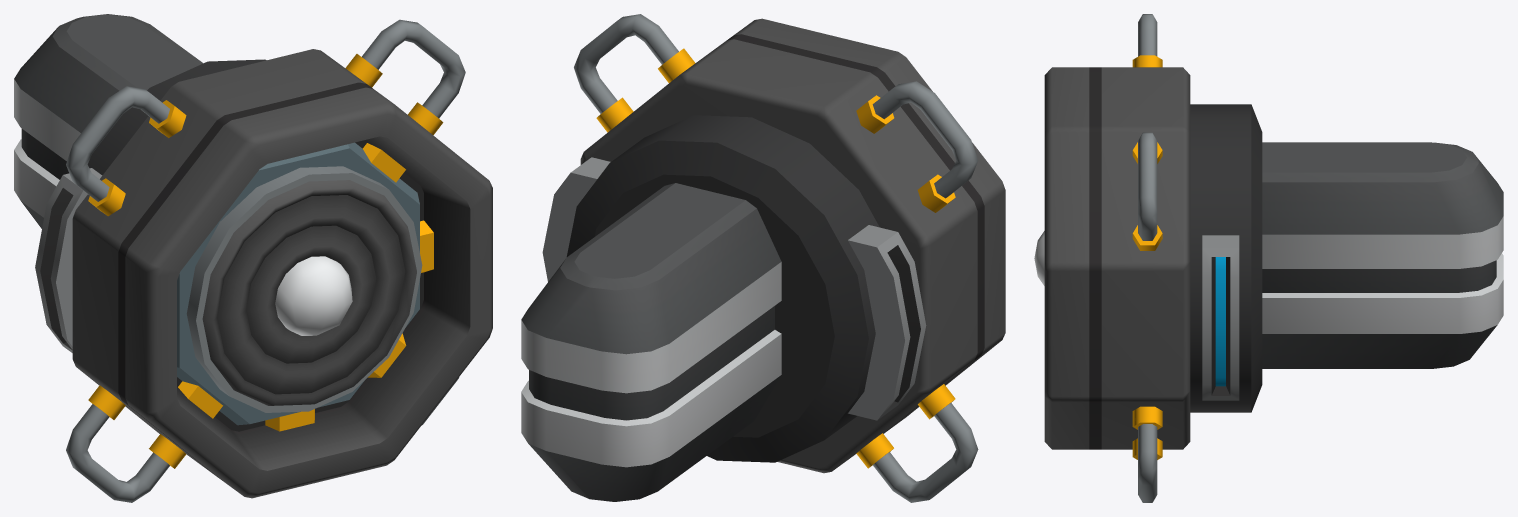
Rendered from Turret_008_Gun_01.fbx.
3 renders of one model, left to right at view 1: azimuth 30°, elevation 25°; view 2: azimuth 150°, elevation 25°; view 3: azimuth 270°, elevation 25°, orthographic. The views are drawn at different scales.
Parts seen in each view (by area): view 1: Turret_008_Gun_01; view 2: Turret_008_Gun_01; view 3: Turret_008_Gun_01.
Boxes of the visible parts, box(x1,y1,x2,y2) form: Turret_008_Gun_01: box(14, 14, 492, 502); Turret_008_Gun_01: box(521, 14, 1005, 502); Turret_008_Gun_01: box(1034, 14, 1503, 502).
Bounding box in the file's own units: 88.51 × 102 × 88.51.
